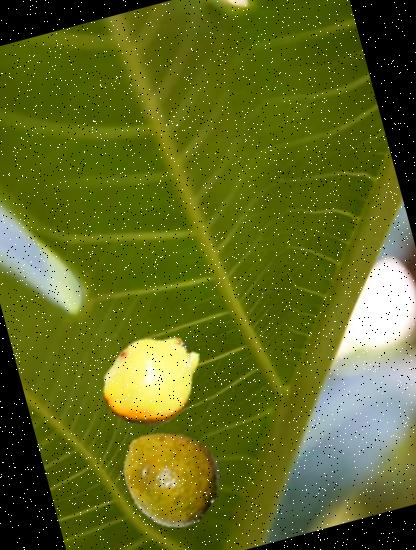Guava: (108, 414, 232, 538)
Quince: (90, 316, 220, 444)
